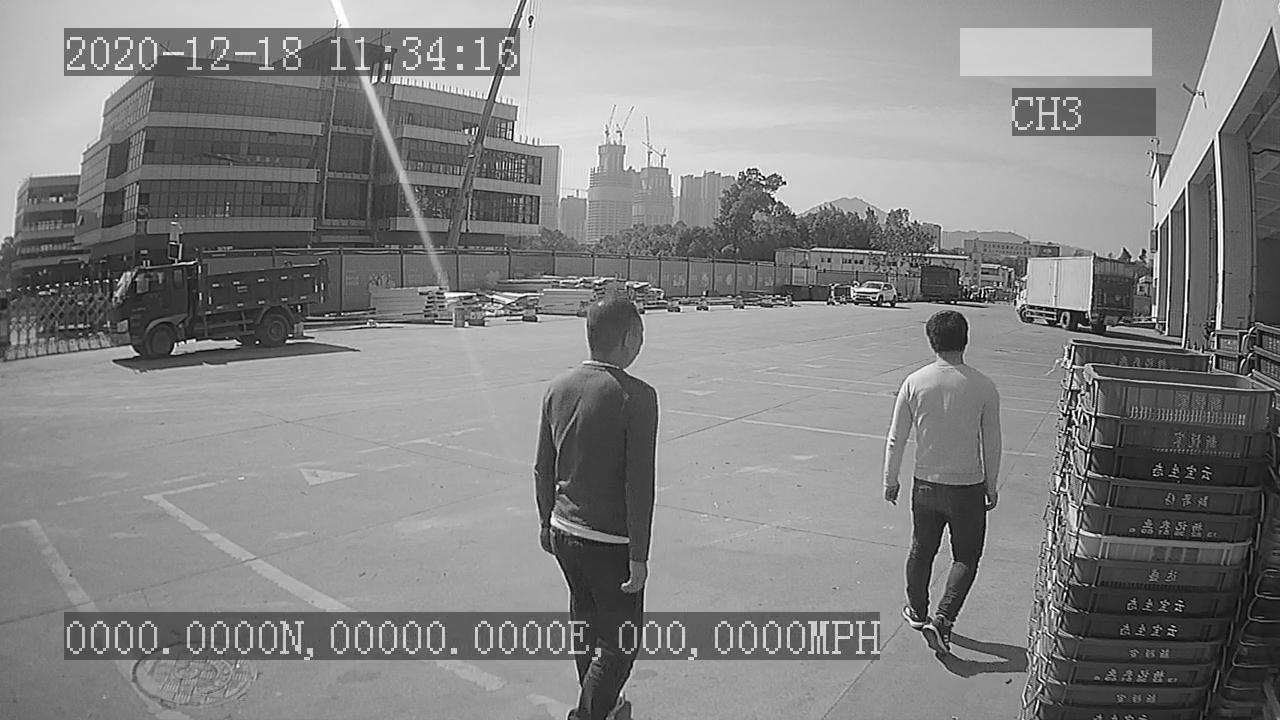person: (882, 312, 1003, 656)
